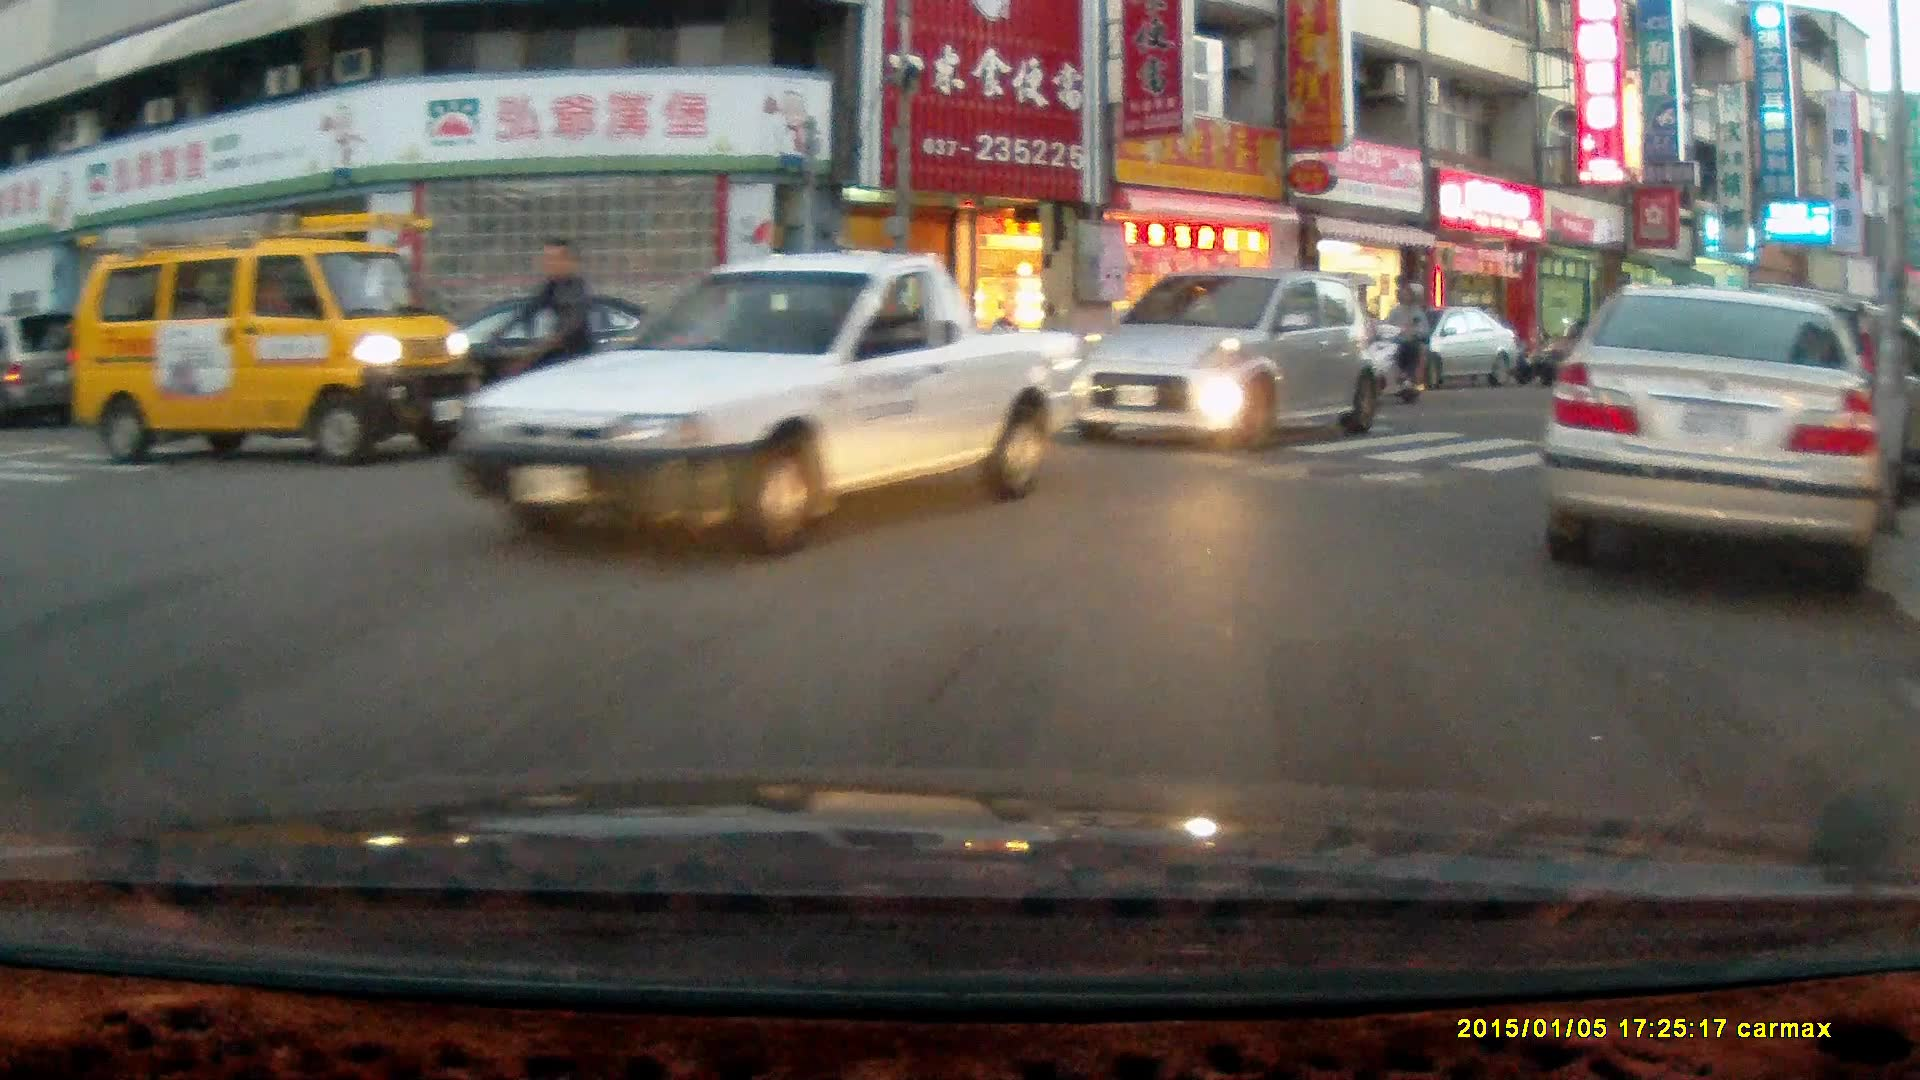rider: (451, 236, 641, 480), (1365, 275, 1430, 406)
vehicle: (442, 244, 1083, 560), (1540, 280, 1881, 606), (63, 208, 476, 469), (1064, 266, 1382, 450), (1670, 291, 1920, 508), (402, 289, 712, 419), (1381, 304, 1518, 385)
